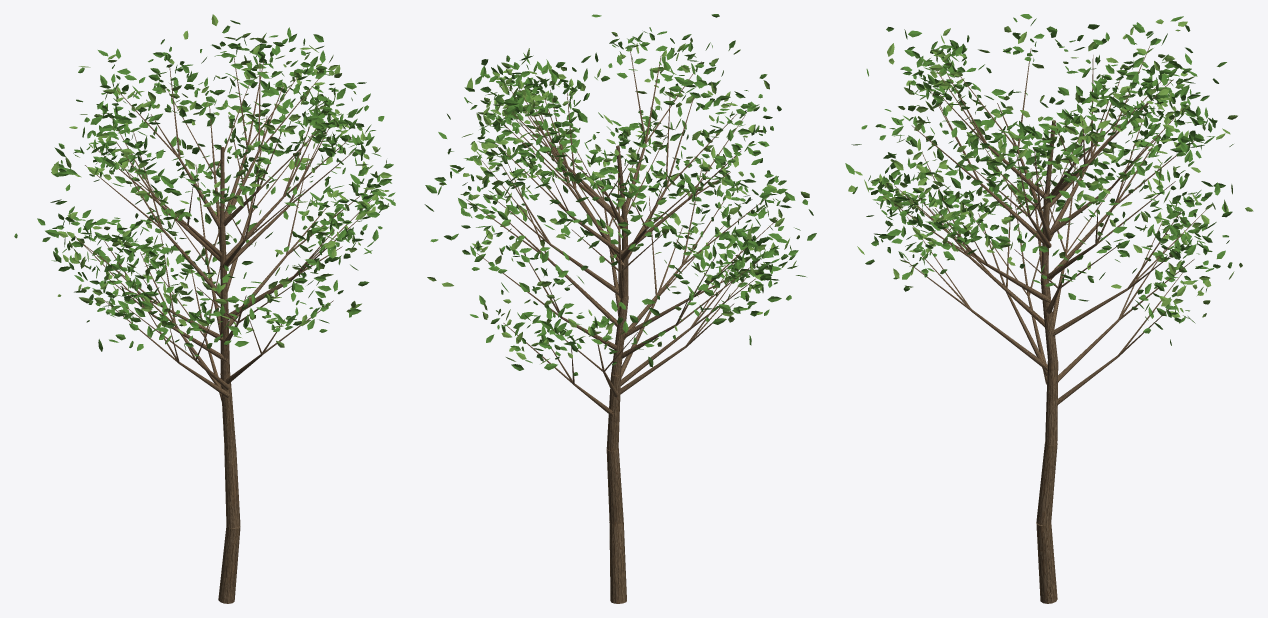
File: broadleaf_2.glb
The picture shows the model from 3 angles, left to right: view 1: azimuth 30°, elevation 25°; view 2: azimuth 150°, elevation 25°; view 3: azimuth 270°, elevation 25°; orthographic projection. The views are drawn at different scales.
Parts seen in each view (by area): view 1: broadleaf_2; view 2: broadleaf_2; view 3: broadleaf_2.
Boxes of the visible parts, box(x1,y1,x2,y2) form: broadleaf_2: box(14, 14, 395, 603); broadleaf_2: box(424, 14, 816, 603); broadleaf_2: box(845, 14, 1253, 603).
Size of the model in its own units: 9.34 by 14.13 by 9.3.
Materials: 3 (1 with a texture image).
